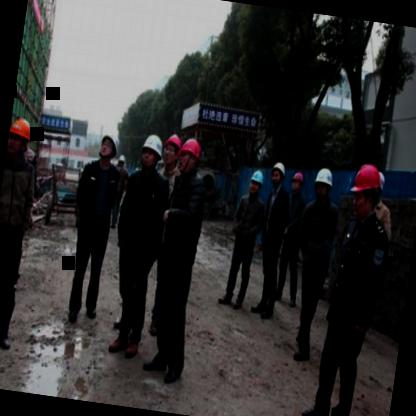helmet: (344, 158, 388, 222), (6, 114, 36, 160), (175, 133, 205, 177), (138, 133, 164, 174), (161, 128, 185, 170), (97, 130, 122, 166), (312, 164, 335, 202), (267, 158, 289, 188), (247, 165, 266, 196), (288, 167, 306, 193)
